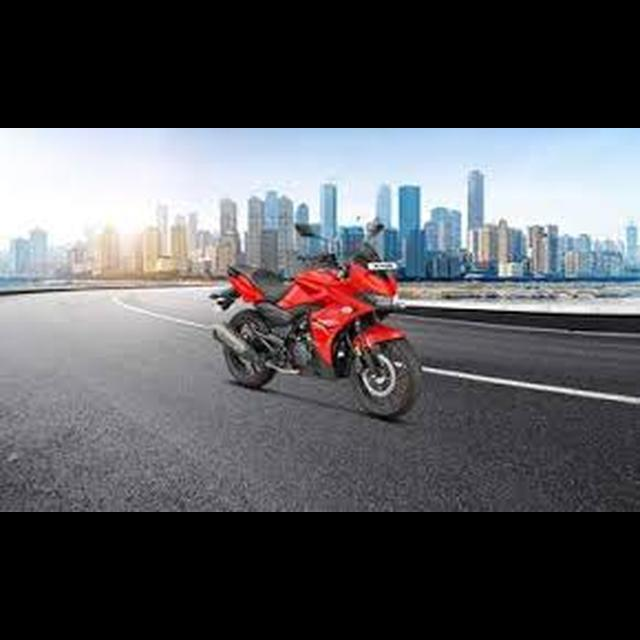motorcycle: (207, 217, 428, 426)
